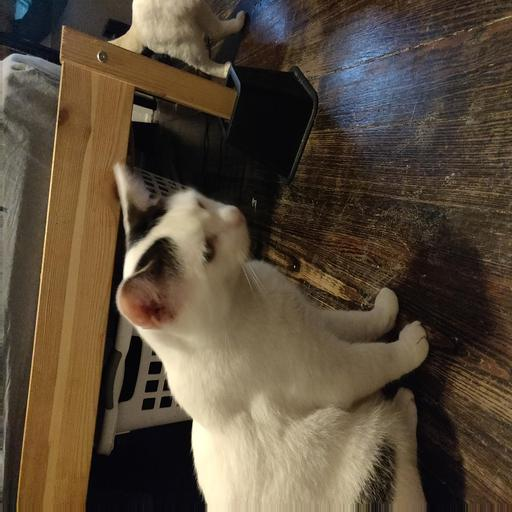cat: (99, 163, 433, 497)
